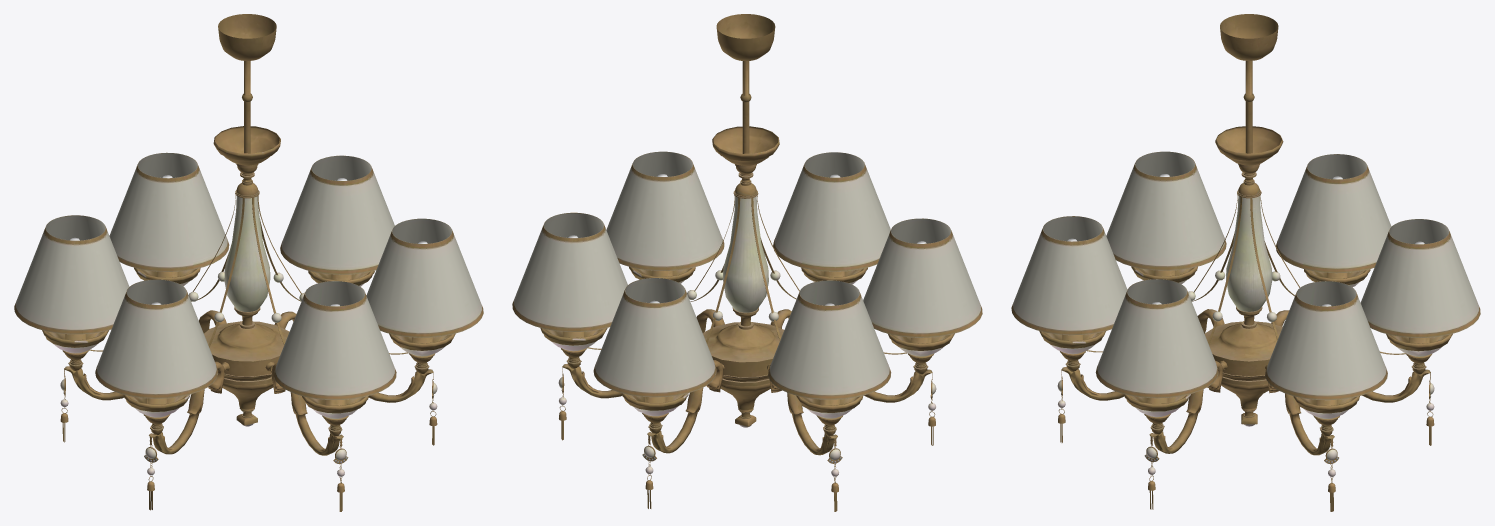
File: Chandelier_01.glb
3 views of the same model, side by side, from view 1: azimuth 30°, elevation 25°; view 2: azimuth 150°, elevation 25°; view 3: azimuth 270°, elevation 25° (orthographic).
Parts seen in each view (by area): view 1: Chandelier_01; view 2: Chandelier_01; view 3: Chandelier_01.
Boxes of the visible parts, x1,y1,x2,y2 form: Chandelier_01: [14, 14, 483, 511]; Chandelier_01: [512, 14, 982, 511]; Chandelier_01: [1011, 14, 1480, 511].
Bounding box in the file's own units: 0.7465 × 0.7982 × 0.8155.
2 materials, 1 textured.
